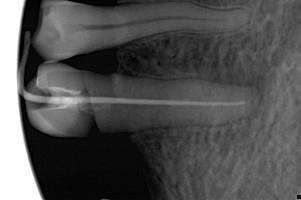Furcation Involvement: (212, 72, 272, 121)
